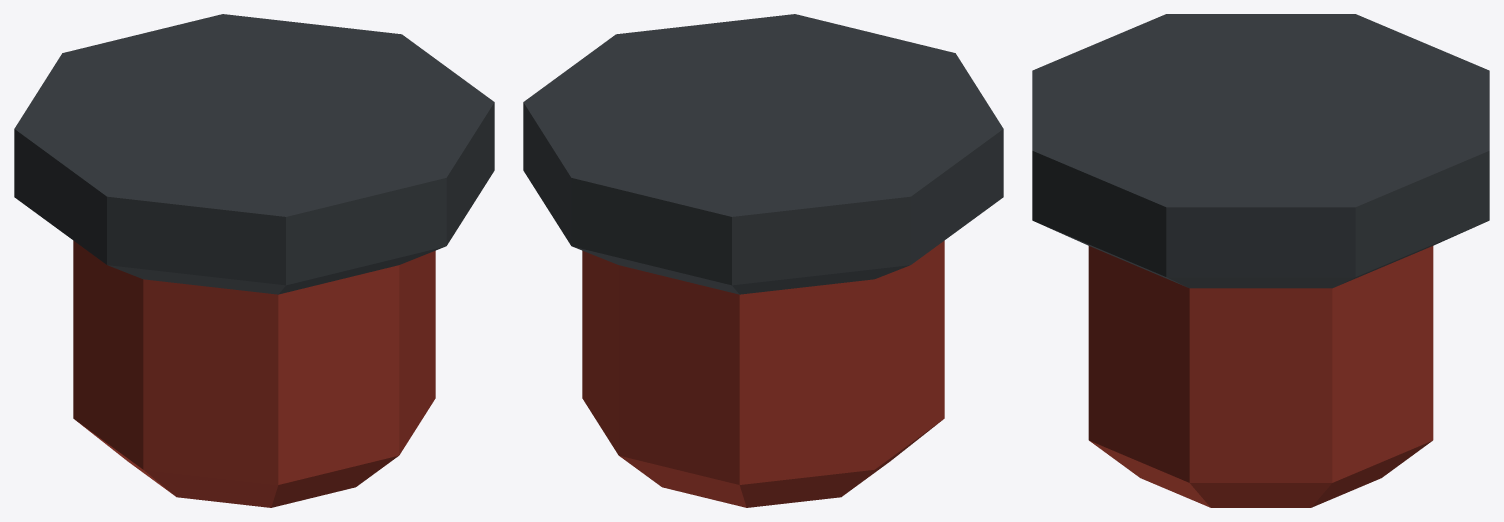
File: SM_Prop_CarJack_Plate_01.fbx
3 views of the same model, side by side, from view 1: azimuth 30°, elevation 25°; view 2: azimuth 150°, elevation 25°; view 3: azimuth 270°, elevation 25° (orthographic). The views are drawn at different scales.
Parts seen in each view (by area): view 1: SM_Prop_CarJack_Plate_01; view 2: SM_Prop_CarJack_Plate_01; view 3: SM_Prop_CarJack_Plate_01.
Boxes of the visible parts, bbox=[...] form: SM_Prop_CarJack_Plate_01: bbox=[14, 14, 494, 507]; SM_Prop_CarJack_Plate_01: bbox=[523, 14, 1003, 507]; SM_Prop_CarJack_Plate_01: bbox=[1032, 14, 1489, 507].
Size of the model in its own units: 12.54 by 10.48 by 12.54.
